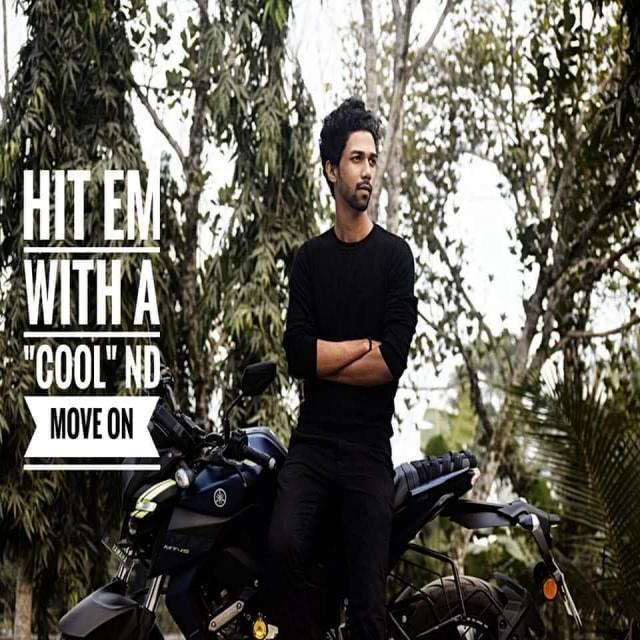Not Wearing Helmet: (281, 60, 406, 190)
